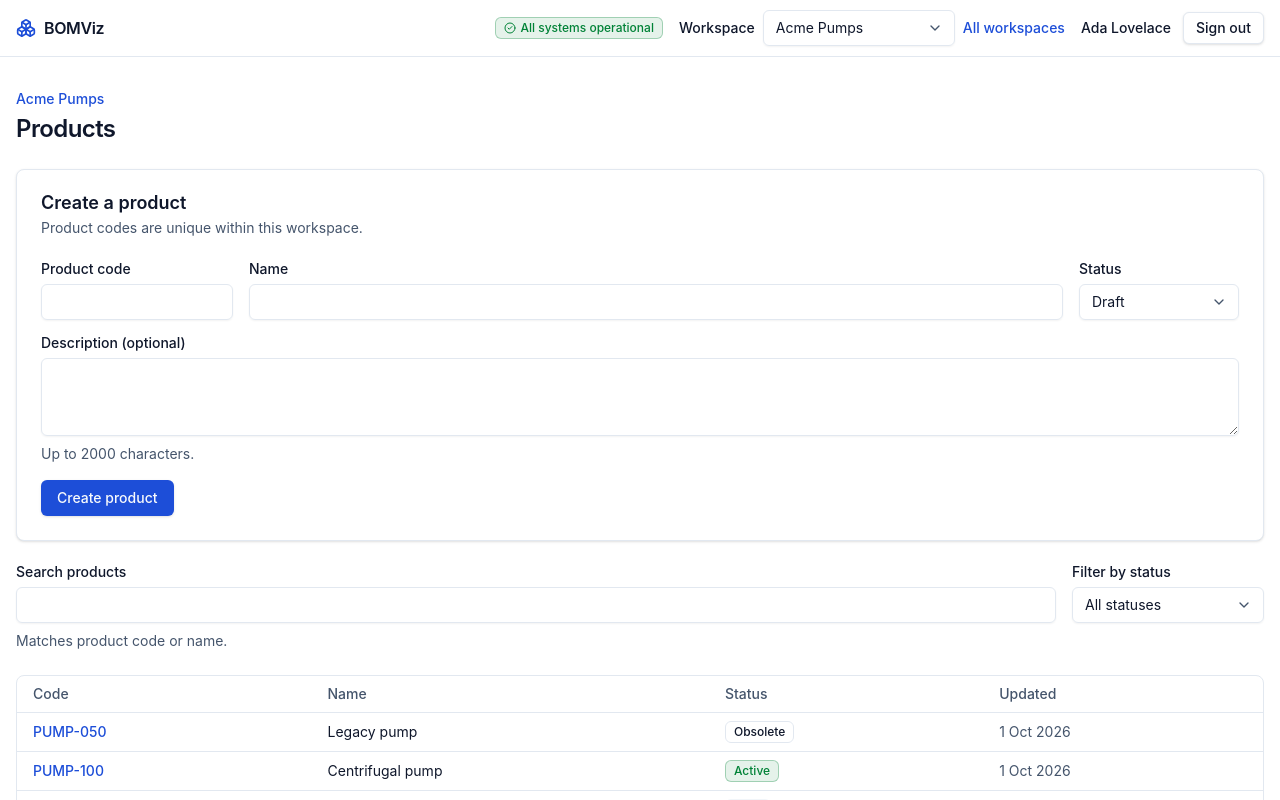
ProductsPage list › debounces the search box into the q URL parameter
The image size is (1280, 800).
Type "valve" into the search field labelled "Search products" at (536, 605), box left=16, top=587, right=1056, bottom=623
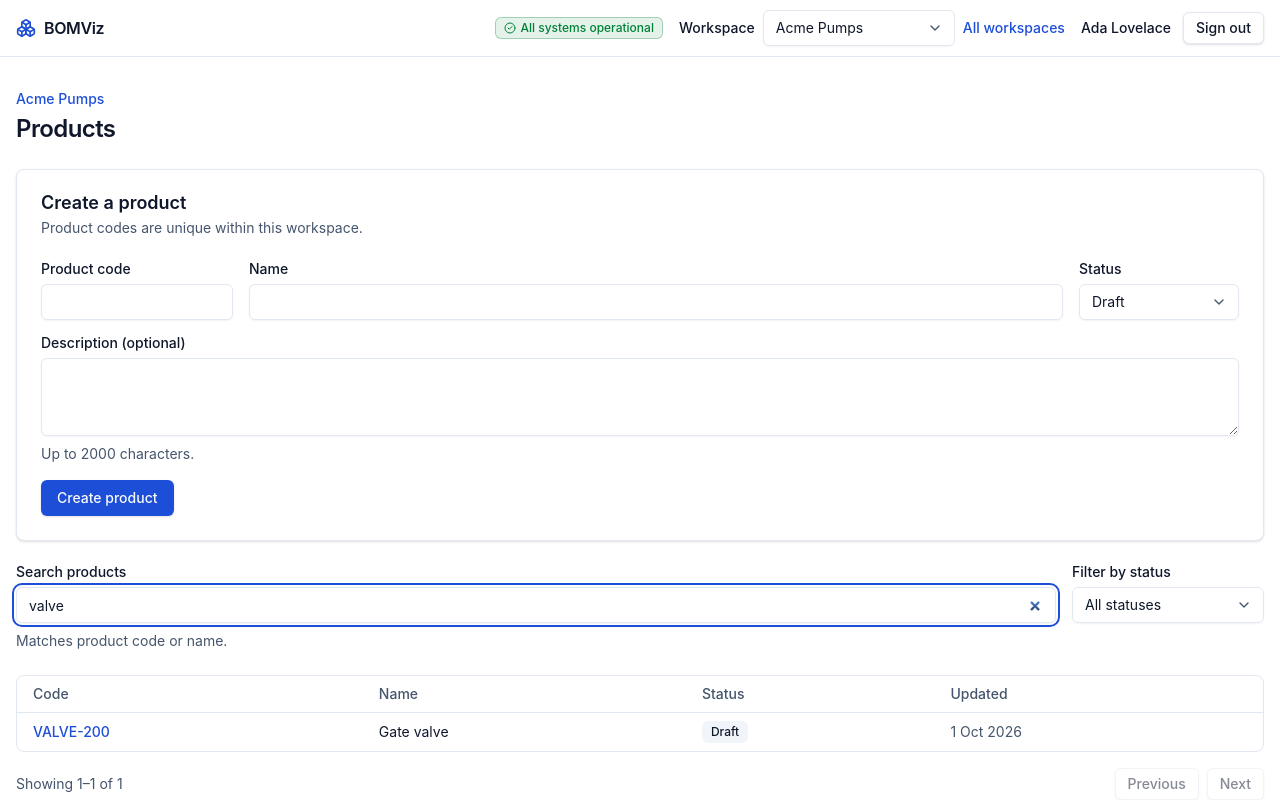
Expected: the link "VALVE-200" is shown, left=33, top=723, right=110, bottom=740
Now the link "PUMP-100" is gone
